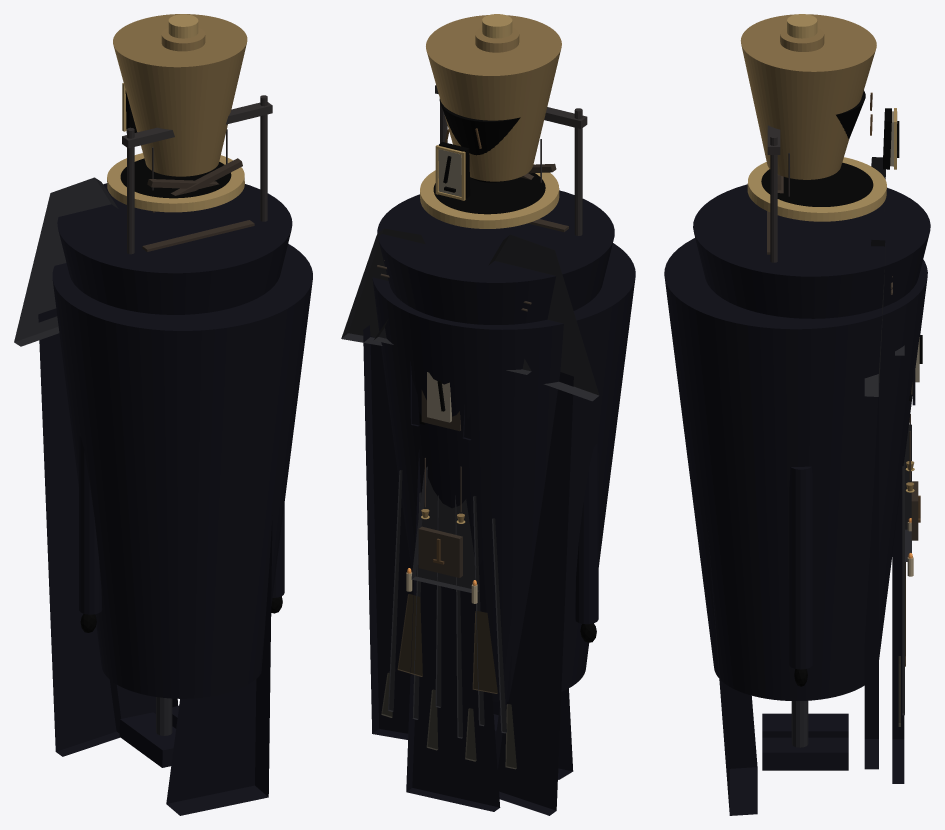
File: bell_saint_v6h2_proportion_rescue.glb
3 renders of one model, left to right at view 1: azimuth 30°, elevation 25°; view 2: azimuth 150°, elevation 25°; view 3: azimuth 270°, elevation 25°, orthographic.
Parts seen in each view (by area): view 1: BS6H2_MainRobe_HeavyAFrame, BS6H2_UpperRobe_Mass, BS6H2_LeftOuterRobeFall_Longer, BS6H2_BellHead_Main, BS6H2_BackTrain, BS6H2_LeftShoulderMantle, BS6H2_LeftSleeveLower, BS6H2_BellSmallOuterLip, BS6H2_LeftFoot, BS6H2_BellInnerShadowLip, BS6H2_BackTopCrossbar, BS6H2_FrontLongRobePanel (+8 smaller); view 2: BS6H2_MainRobe_HeavyAFrame, BS6H2_UpperRobe_Mass, BS6H2_LeftOuterRobeFall_Longer, BS6H2_FrontLongRobePanel, BS6H2_BellHead_Main, BS6H2_RightOuterRobeFall, BS6H2_LeftShoulderMantle, BS6H2_LeftSleeveLower, BS6H2_LowerTabard, BS6H2_BellSmallOuterLip, BS6H2_BellInnerShadowLip, BS6H2_RightShoulderMantle (+17 smaller); view 3: BS6H2_MainRobe_HeavyAFrame, BS6H2_UpperRobe_Mass, BS6H2_BellHead_Main, BS6H2_RightSleeveLower, BS6H2_BackTrain, BS6H2_RightOuterRobeFall, BS6H2_BellSmallOuterLip, BS6H2_FrontLongRobePanel, BS6H2_BellInnerShadowLip, BS6H2_RightFoot, BS6H2_LeftFoot, BS6H2_BackRightPost (+7 smaller).
Part boxes in pixels (x1,y1,x2,y2): BS6H2_MainRobe_HeavyAFrame: [52, 243, 312, 698]; BS6H2_UpperRobe_Mass: [57, 183, 292, 314]; BS6H2_LeftOuterRobeFall_Longer: [38, 308, 120, 756]; BS6H2_BellHead_Main: [113, 14, 247, 176]; BS6H2_BackTrain: [166, 520, 272, 815]; BS6H2_LeftShoulderMantle: [14, 177, 118, 346]; BS6H2_LeftSleeveLower: [79, 436, 102, 614]; BS6H2_BellSmallOuterLip: [107, 153, 244, 212]; BS6H2_LeftFoot: [119, 712, 175, 767]; BS6H2_BellInnerShadowLip: [120, 158, 231, 198]; BS6H2_BackTopCrossbar: [122, 102, 272, 148]; BS6H2_FrontLongRobePanel: [116, 685, 177, 718]; BS6H2_MainRobe_HeavyAFrame: [372, 243, 635, 701]; BS6H2_UpperRobe_Mass: [377, 190, 614, 324]; BS6H2_LeftOuterRobeFall_Longer: [495, 372, 573, 815]; BS6H2_FrontLongRobePanel: [406, 449, 500, 811]; BS6H2_BellHead_Main: [426, 15, 561, 181]; BS6H2_RightOuterRobeFall: [363, 325, 413, 739]; BS6H2_LeftShoulderMantle: [488, 234, 599, 401]; BS6H2_LeftSleeveLower: [575, 443, 598, 624]; BS6H2_LowerTabard: [411, 466, 479, 592]; BS6H2_BellSmallOuterLip: [420, 164, 559, 228]; BS6H2_BellInnerShadowLip: [433, 173, 545, 214]; BS6H2_RightShoulderMantle: [341, 228, 425, 345]; BS6H2_MainRobe_HeavyAFrame: [664, 238, 927, 700]; BS6H2_UpperRobe_Mass: [693, 184, 930, 318]; BS6H2_BellHead_Main: [740, 14, 876, 179]; BS6H2_RightSleeveLower: [789, 466, 812, 669]; BS6H2_BackTrain: [707, 527, 757, 815]; BS6H2_RightOuterRobeFall: [864, 397, 878, 769]; BS6H2_BellSmallOuterLip: [747, 157, 886, 221]; BS6H2_FrontLongRobePanel: [892, 478, 904, 783]; BS6H2_BellInnerShadowLip: [761, 162, 873, 206]; BS6H2_RightFoot: [762, 737, 848, 770]; BS6H2_LeftFoot: [762, 713, 848, 737]; BS6H2_BackRightPost: [770, 135, 777, 262].
Bounding box in the file's own units: 1.34 × 3.94 × 1.23.
